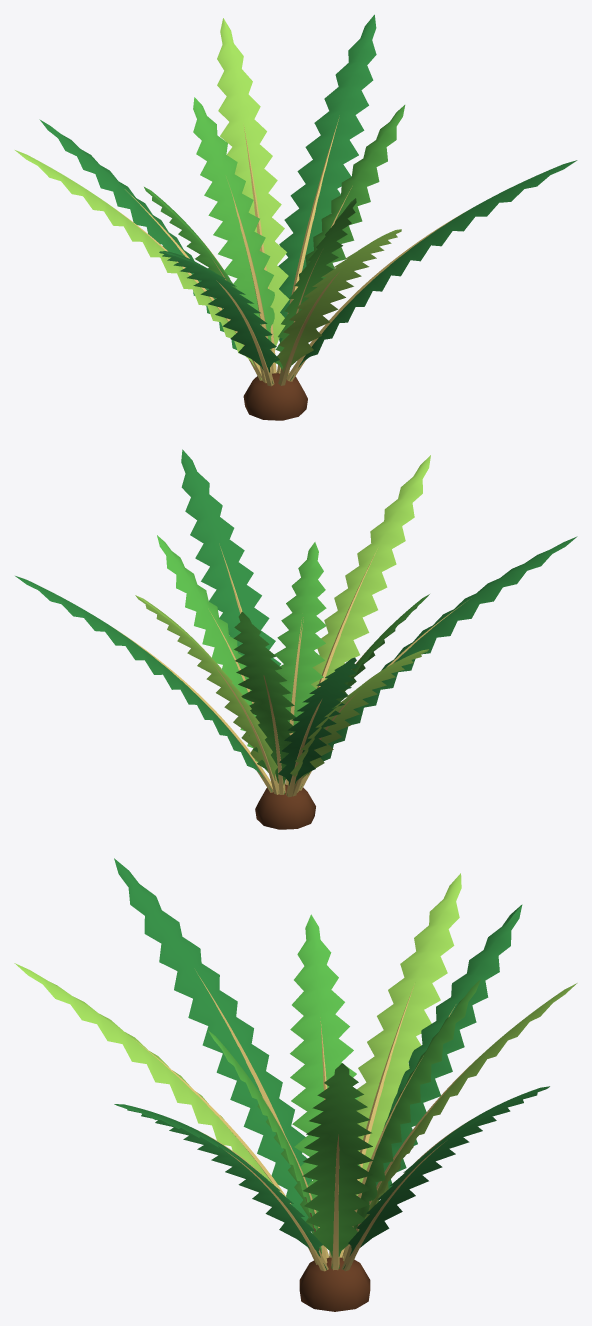
File: nipa_palm.glb
The picture shows the model from 3 angles, top to bottom: view 1: azimuth 30°, elevation 25°; view 2: azimuth 150°, elevation 25°; view 3: azimuth 270°, elevation 25°; orthographic projection. The views are drawn at different scales.
Parts seen in each view (by area): view 1: nipa_palm; view 2: nipa_palm; view 3: nipa_palm.
Part boxes in pixels (x1,y1,x2,y2): nipa_palm: (15, 14, 577, 420); nipa_palm: (15, 449, 577, 829); nipa_palm: (14, 858, 577, 1311).
Bounding box in the file's own units: 6.25 × 4.28 × 6.36.
